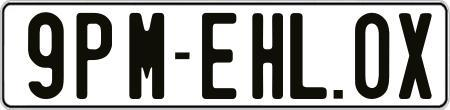0: (352, 11, 389, 98)
9: (25, 9, 67, 101)
E: (200, 13, 240, 102)
H: (249, 11, 280, 100)
L: (287, 12, 327, 103)
M: (128, 13, 165, 104)
P: (76, 13, 117, 101)
X: (398, 12, 434, 98)
